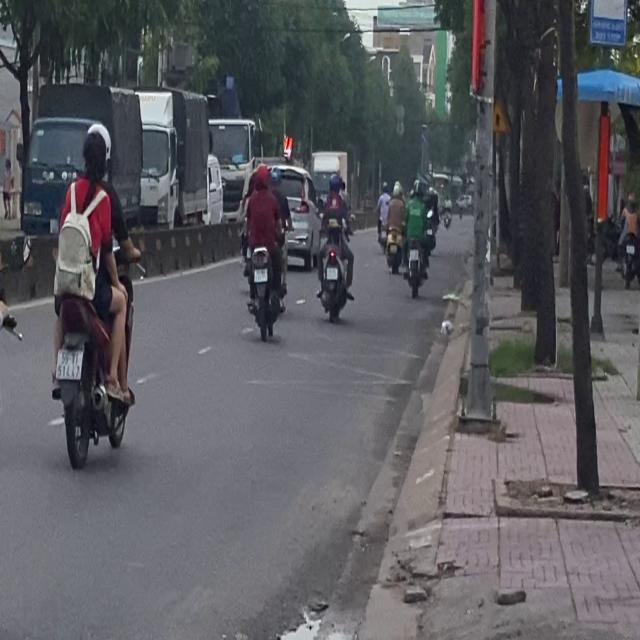licenseplate: (47, 121, 137, 470)
motorcyclist: (82, 131, 108, 188)
nohelmet: (56, 348, 80, 378)
